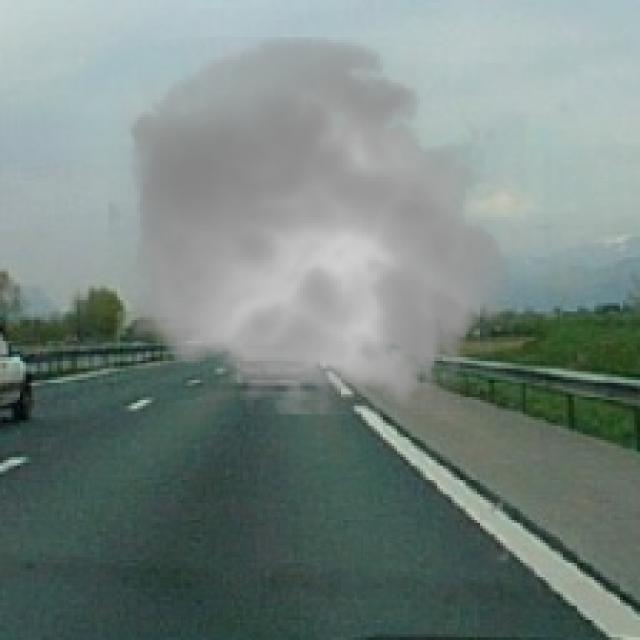smoke: (108, 23, 526, 431)
